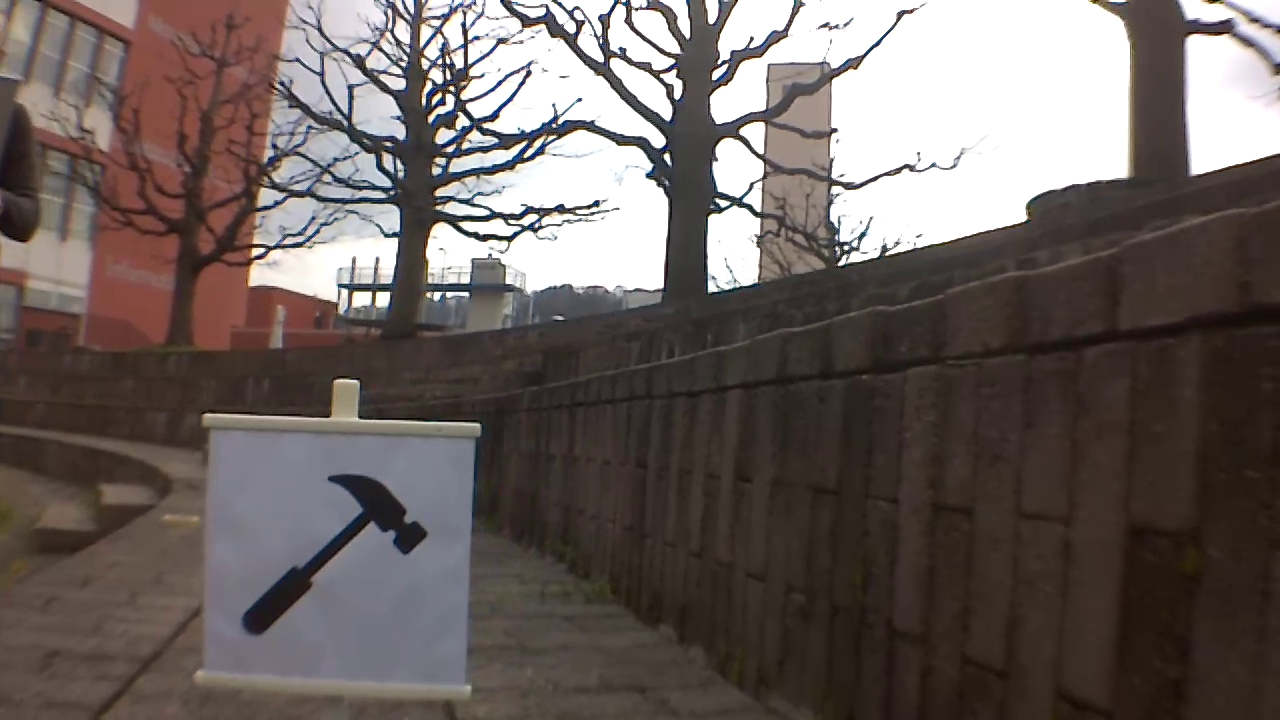hammer: (237, 471, 430, 631)
